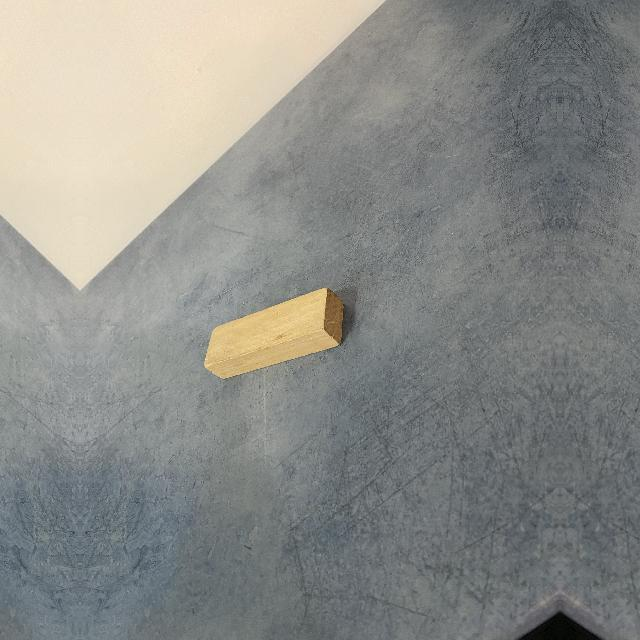jenga: (203, 288, 345, 381)
